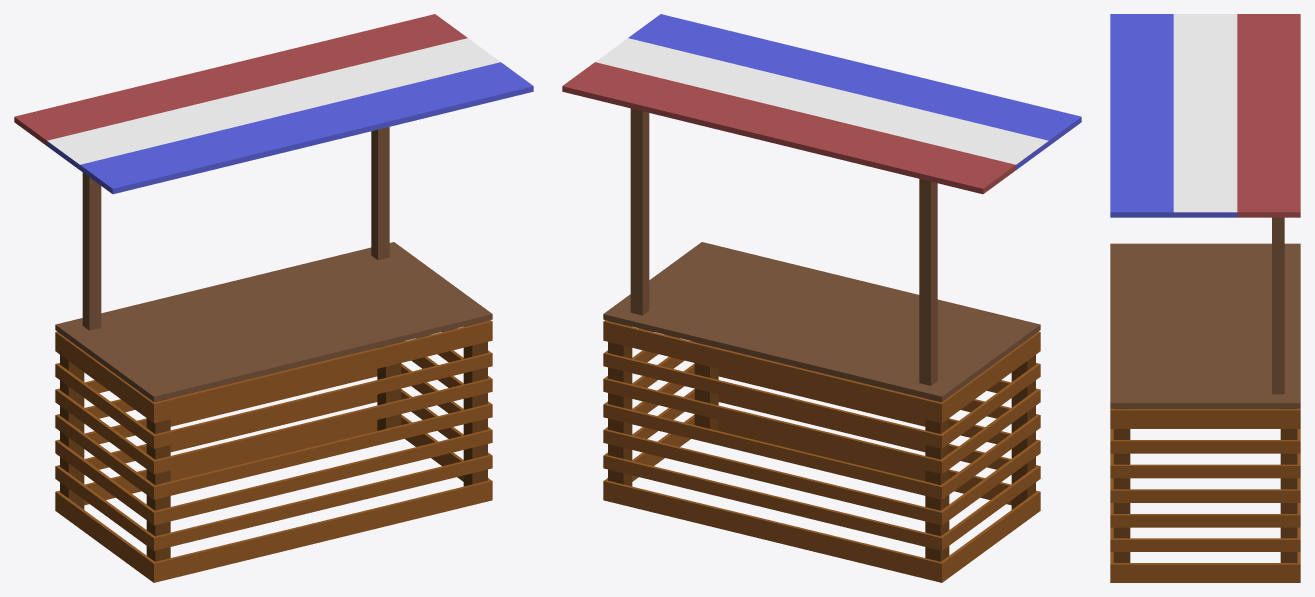
Rendered from stall.fbx.
3 renders of one model, left to right at view 1: azimuth 30°, elevation 25°; view 2: azimuth 150°, elevation 25°; view 3: azimuth 270°, elevation 25°, orthographic. The views are drawn at different scales.
Parts seen in each view (by area): view 1: Cube, Cube.002, Cube.001, Plane, Plane.001; view 2: Cube, Cube.002, Cube.001, Plane.001, Plane; view 3: Cube.002, Cube.001, Cube, Plane, Plane.001.
Boxes of the visible parts, bbox=[...] form: Cube: bbox=[55, 320, 492, 582]; Cube.002: bbox=[14, 14, 533, 194]; Cube.001: bbox=[55, 242, 492, 401]; Plane: bbox=[60, 321, 487, 561]; Plane.001: bbox=[82, 127, 389, 330]; Cube: bbox=[603, 320, 1040, 582]; Cube.002: bbox=[562, 14, 1081, 194]; Cube.001: bbox=[603, 242, 1040, 401]; Plane.001: bbox=[630, 108, 937, 385]; Plane: bbox=[608, 321, 1035, 561]; Cube.002: bbox=[1110, 14, 1300, 217]; Cube.001: bbox=[1110, 243, 1300, 408]; Cube: bbox=[1110, 408, 1300, 582]; Plane: bbox=[1113, 408, 1297, 562]; Plane.001: bbox=[1272, 217, 1284, 394].
Size of the model in its own units: 493 by 452 by 200.
